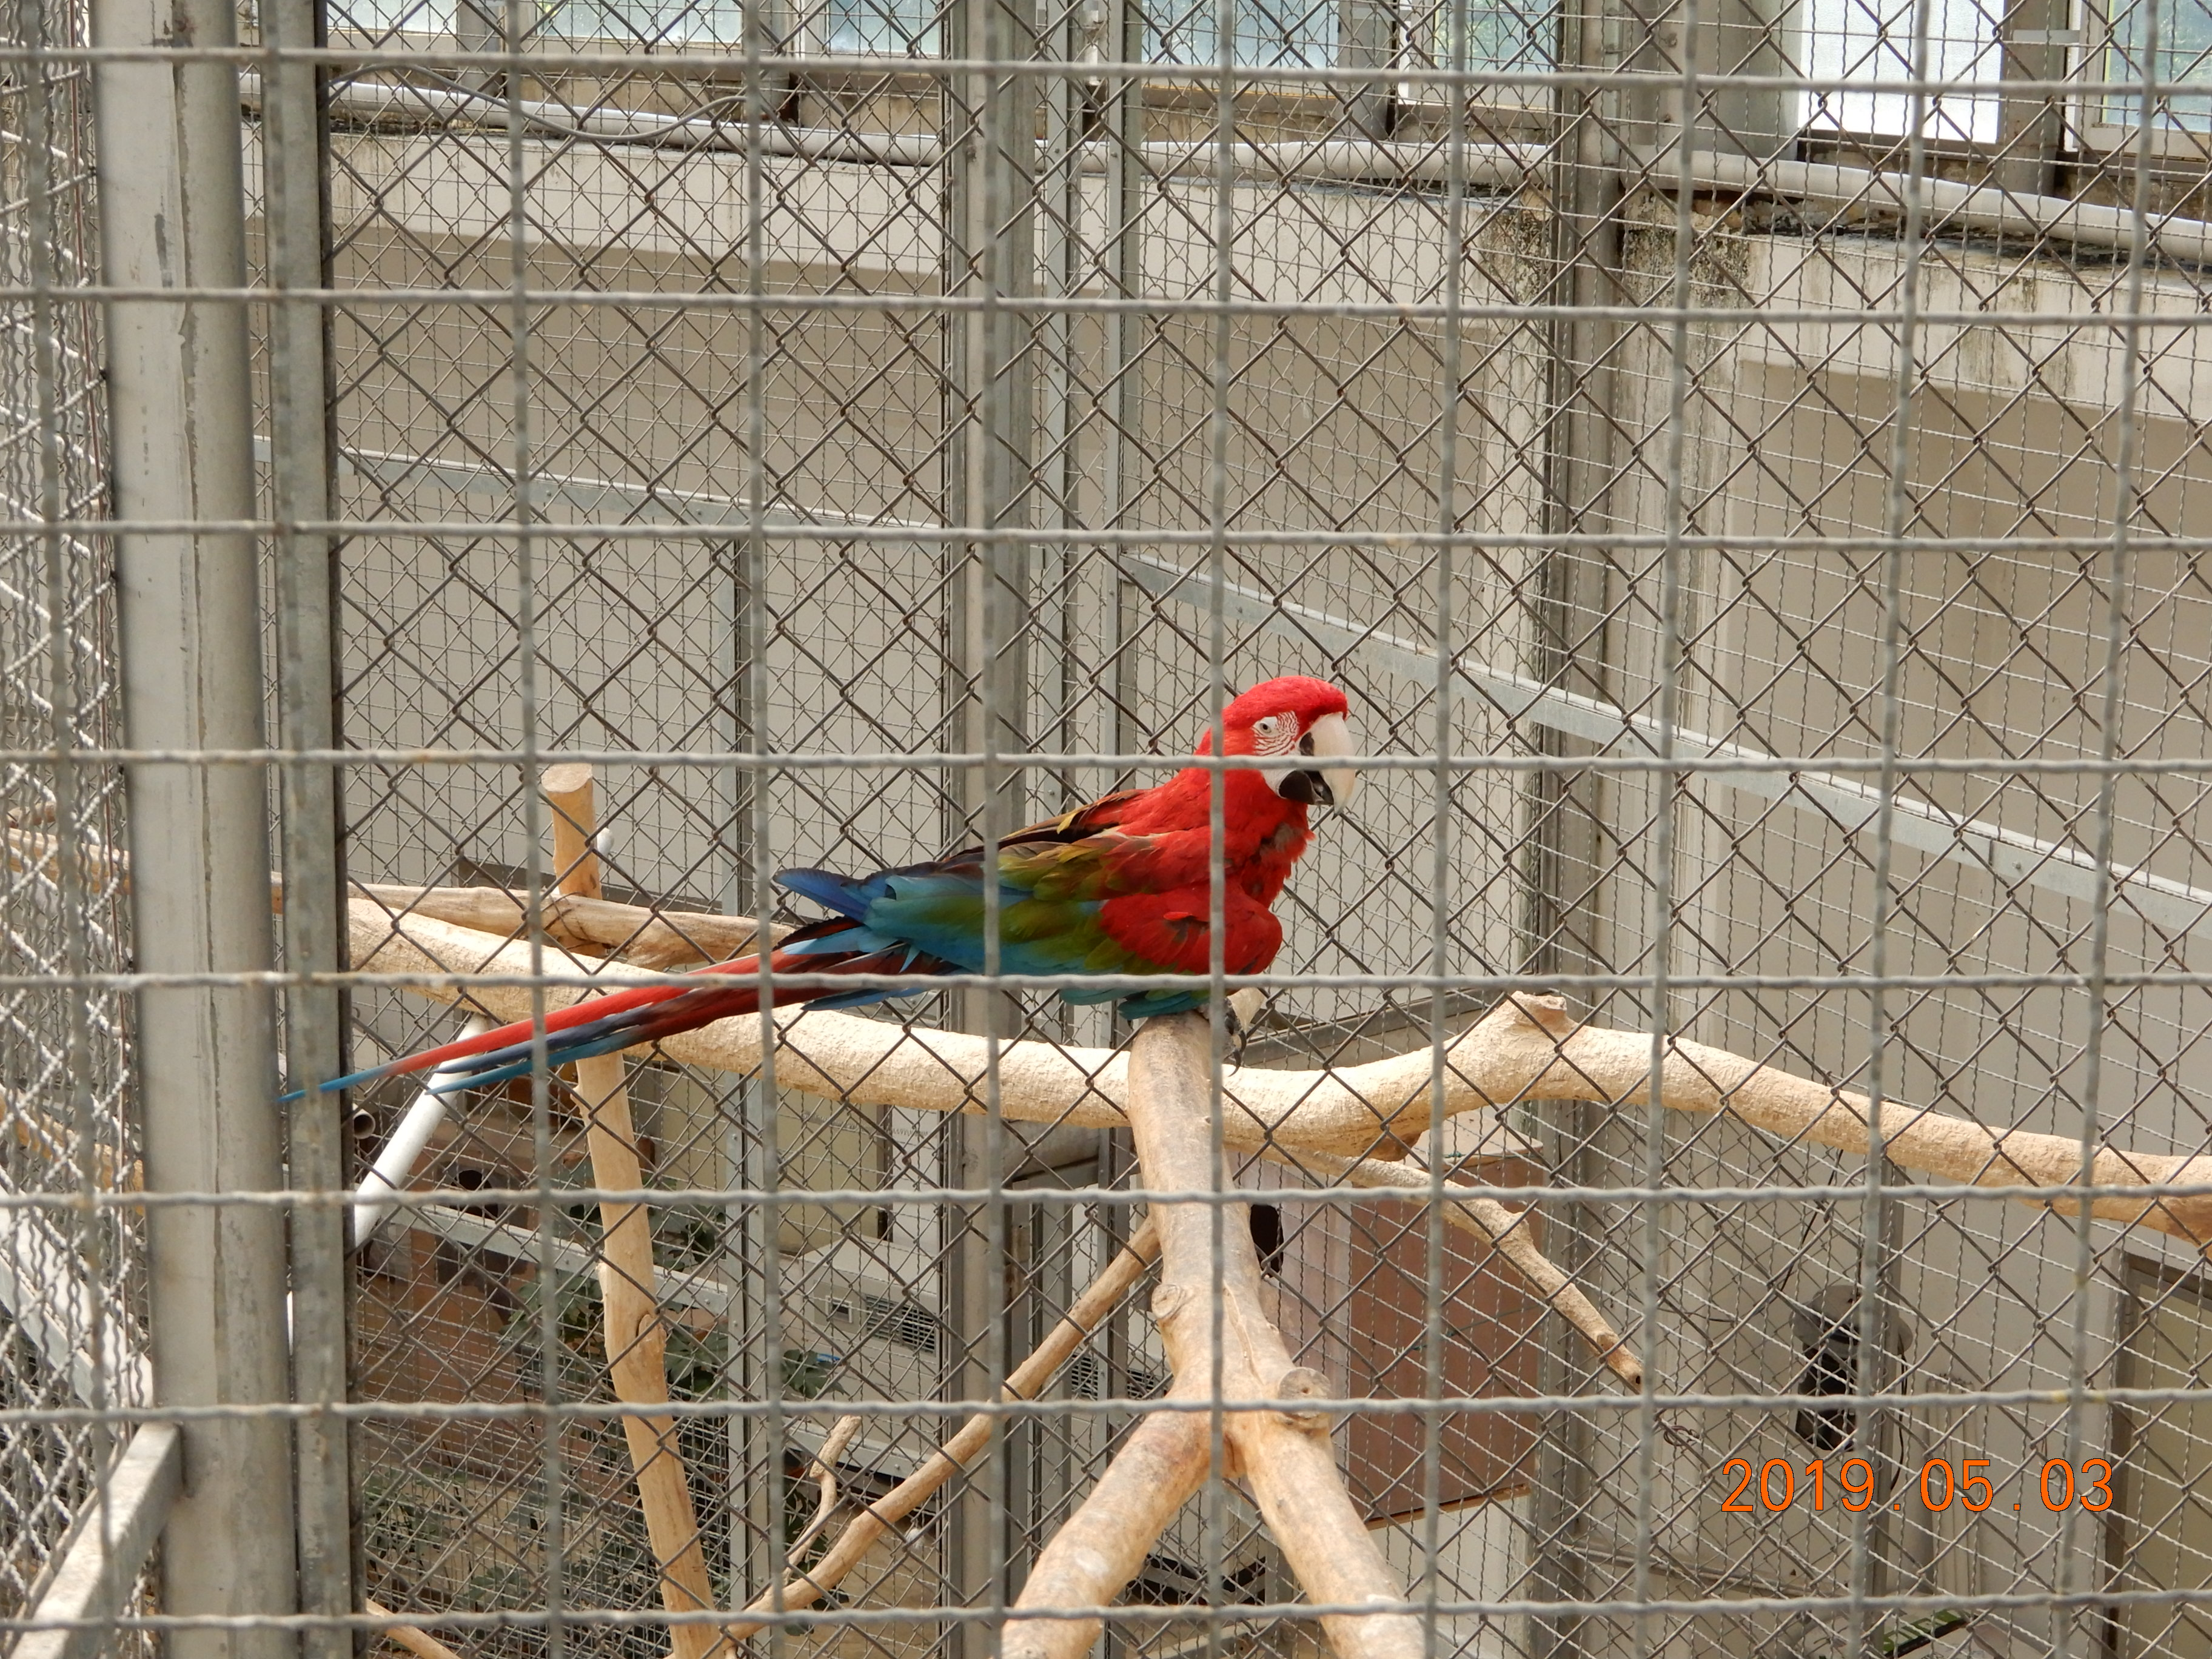Ara chloroptera: (279, 669, 1366, 1131)
